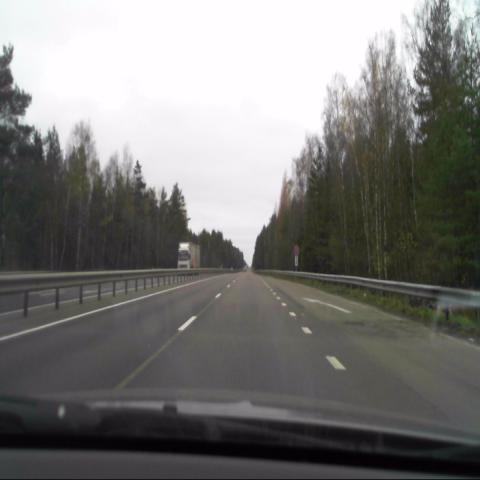3_27: (293, 244, 300, 255)
